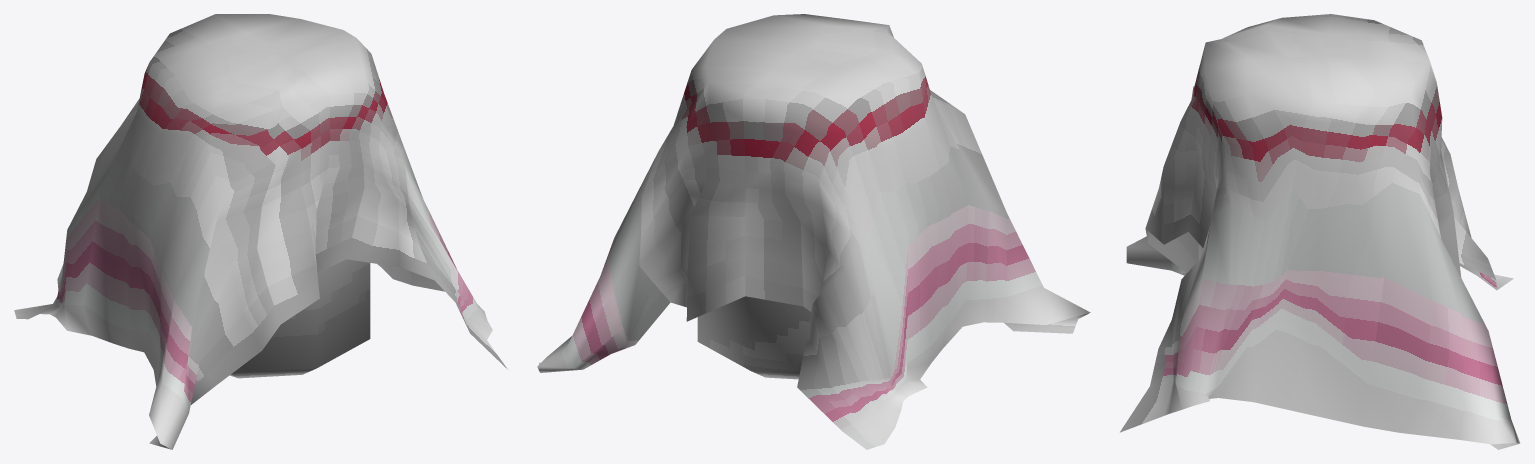
File: jar_sieve.fbx
3 renders of one model, left to right at view 1: azimuth 30°, elevation 25°; view 2: azimuth 150°, elevation 25°; view 3: azimuth 270°, elevation 25°, orthographic. The views are drawn at different scales.
Parts seen in each view (by area): view 1: Cloth.001; view 2: Cloth.001; view 3: Cloth.001.
Boxes of the visible parts, <box> form: Cloth.001: <box>14,14,507,449</box>; Cloth.001: <box>537,14,1090,449</box>; Cloth.001: <box>1120,14,1520,449</box>.
Size of the model in its own units: 0.2162 by 0.1617 by 0.1916.
